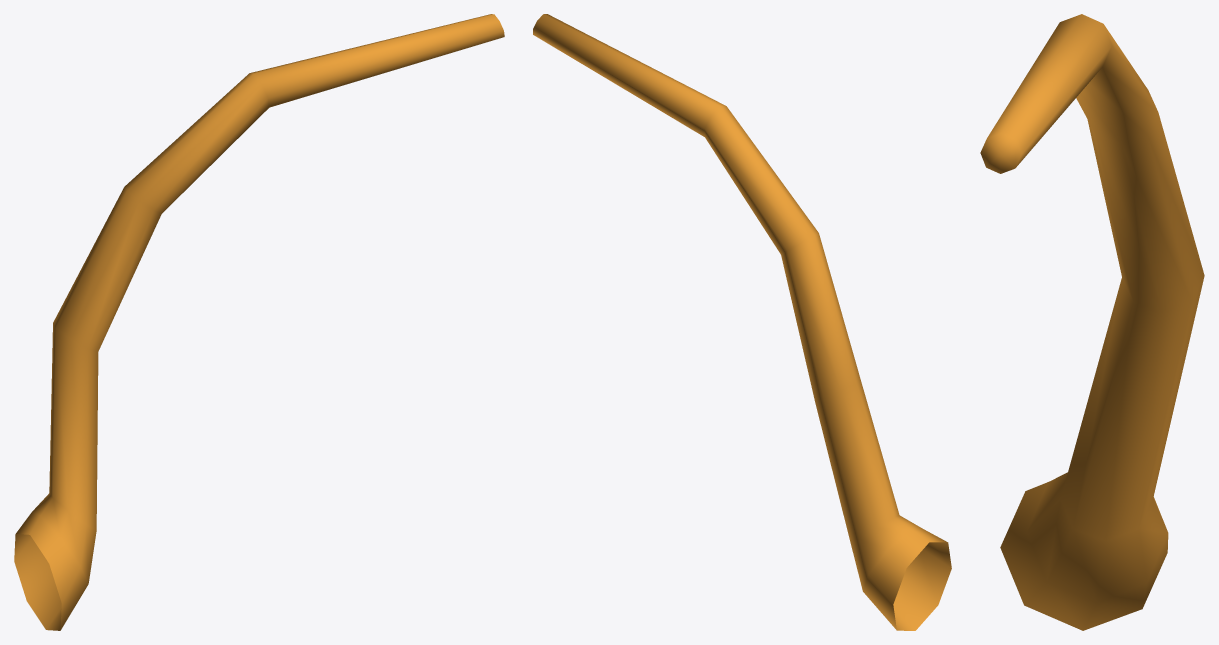
The model's file is Branch 1.fbx.
The picture shows the model from 3 angles, left to right: view 1: azimuth 30°, elevation 25°; view 2: azimuth 150°, elevation 25°; view 3: azimuth 270°, elevation 25°; orthographic projection. The views are drawn at different scales.
Visible parts, largest first — view 1: Cube.002; view 2: Cube.002; view 3: Cube.002.
Boxes of the visible parts, x1=… form: Cube.002: x1=14, y1=14, x2=504, y2=630; Cube.002: x1=533, y1=14, x2=951, y2=630; Cube.002: x1=980, y1=14, x2=1204, y2=630.
Size of the model in its own units: 561 by 642 by 161.
